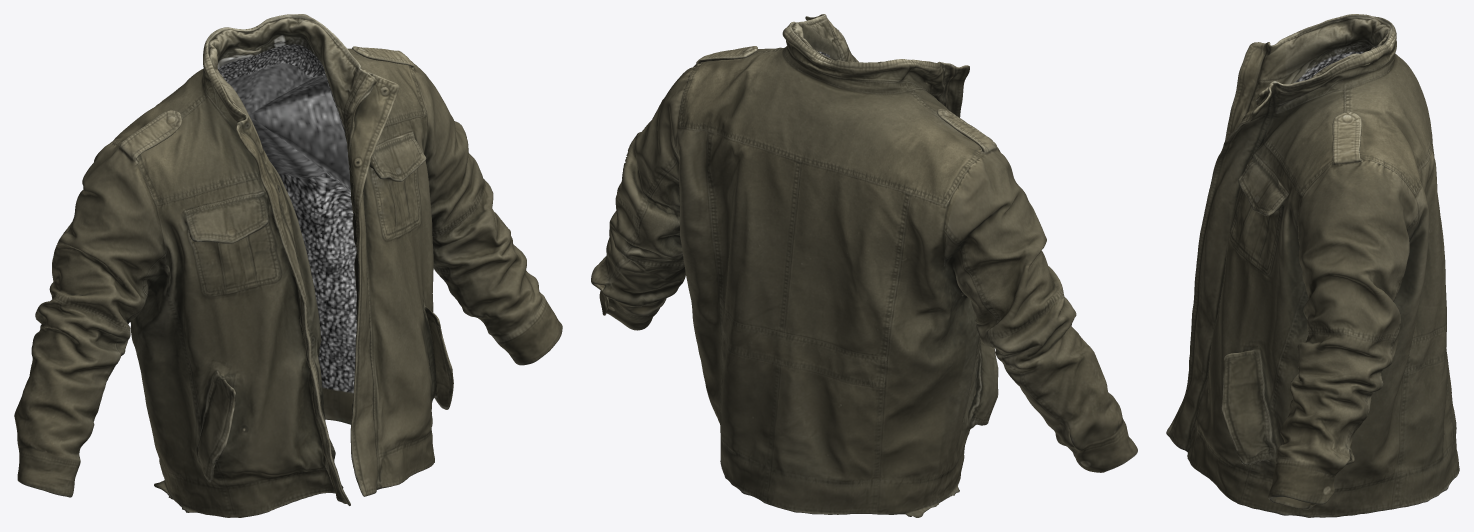
The model's file is real_army_jacket.glb.
3 views of the same model, side by side, from view 1: azimuth 30°, elevation 25°; view 2: azimuth 150°, elevation 25°; view 3: azimuth 270°, elevation 25° (orthographic).
Visible parts, largest first — view 1: ArmyJacket_MidRez.001; view 2: ArmyJacket_MidRez.001; view 3: ArmyJacket_MidRez.001.
Boxes of the visible parts, bbox=[...] form: ArmyJacket_MidRez.001: bbox=[14, 14, 562, 517]; ArmyJacket_MidRez.001: bbox=[591, 14, 1137, 517]; ArmyJacket_MidRez.001: bbox=[1166, 14, 1459, 517].
Size of the model in its own units: 16.11 by 12.85 by 7.66.
Materials: 1 (1 with a texture image).
